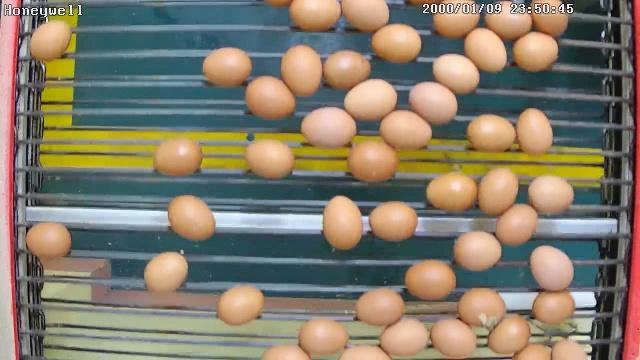egg: (299, 106, 358, 151), (344, 138, 400, 184), (164, 194, 216, 243), (243, 74, 296, 122), (321, 194, 364, 252), (378, 109, 434, 153), (343, 77, 397, 122), (279, 44, 323, 99), (407, 80, 459, 126), (368, 22, 422, 66), (424, 170, 478, 214), (142, 249, 189, 299), (241, 138, 295, 181), (403, 260, 458, 302), (528, 244, 576, 292), (322, 48, 372, 94), (201, 45, 252, 90), (452, 229, 503, 274), (457, 285, 508, 330), (296, 316, 350, 358), (152, 135, 202, 180), (216, 283, 266, 328), (476, 166, 520, 217), (465, 112, 517, 155), (377, 316, 430, 358), (431, 51, 480, 96), (23, 219, 74, 262), (353, 286, 405, 328), (512, 29, 560, 74), (463, 26, 508, 74), (428, 318, 482, 358), (368, 200, 418, 243), (27, 17, 73, 63), (494, 202, 539, 248), (483, 1, 533, 42), (484, 314, 532, 356), (516, 106, 554, 159), (431, 1, 482, 40), (528, 173, 574, 216), (532, 286, 576, 330), (288, 0, 342, 34), (341, 0, 391, 34)
